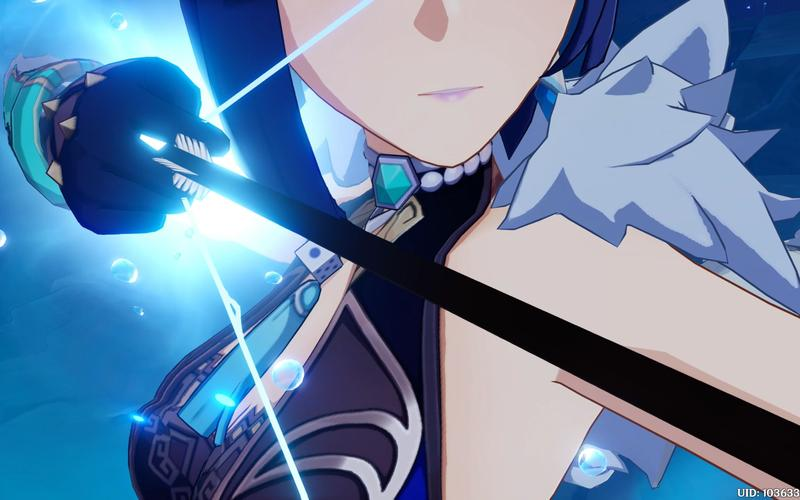夜兰: (1, 1, 799, 497)
